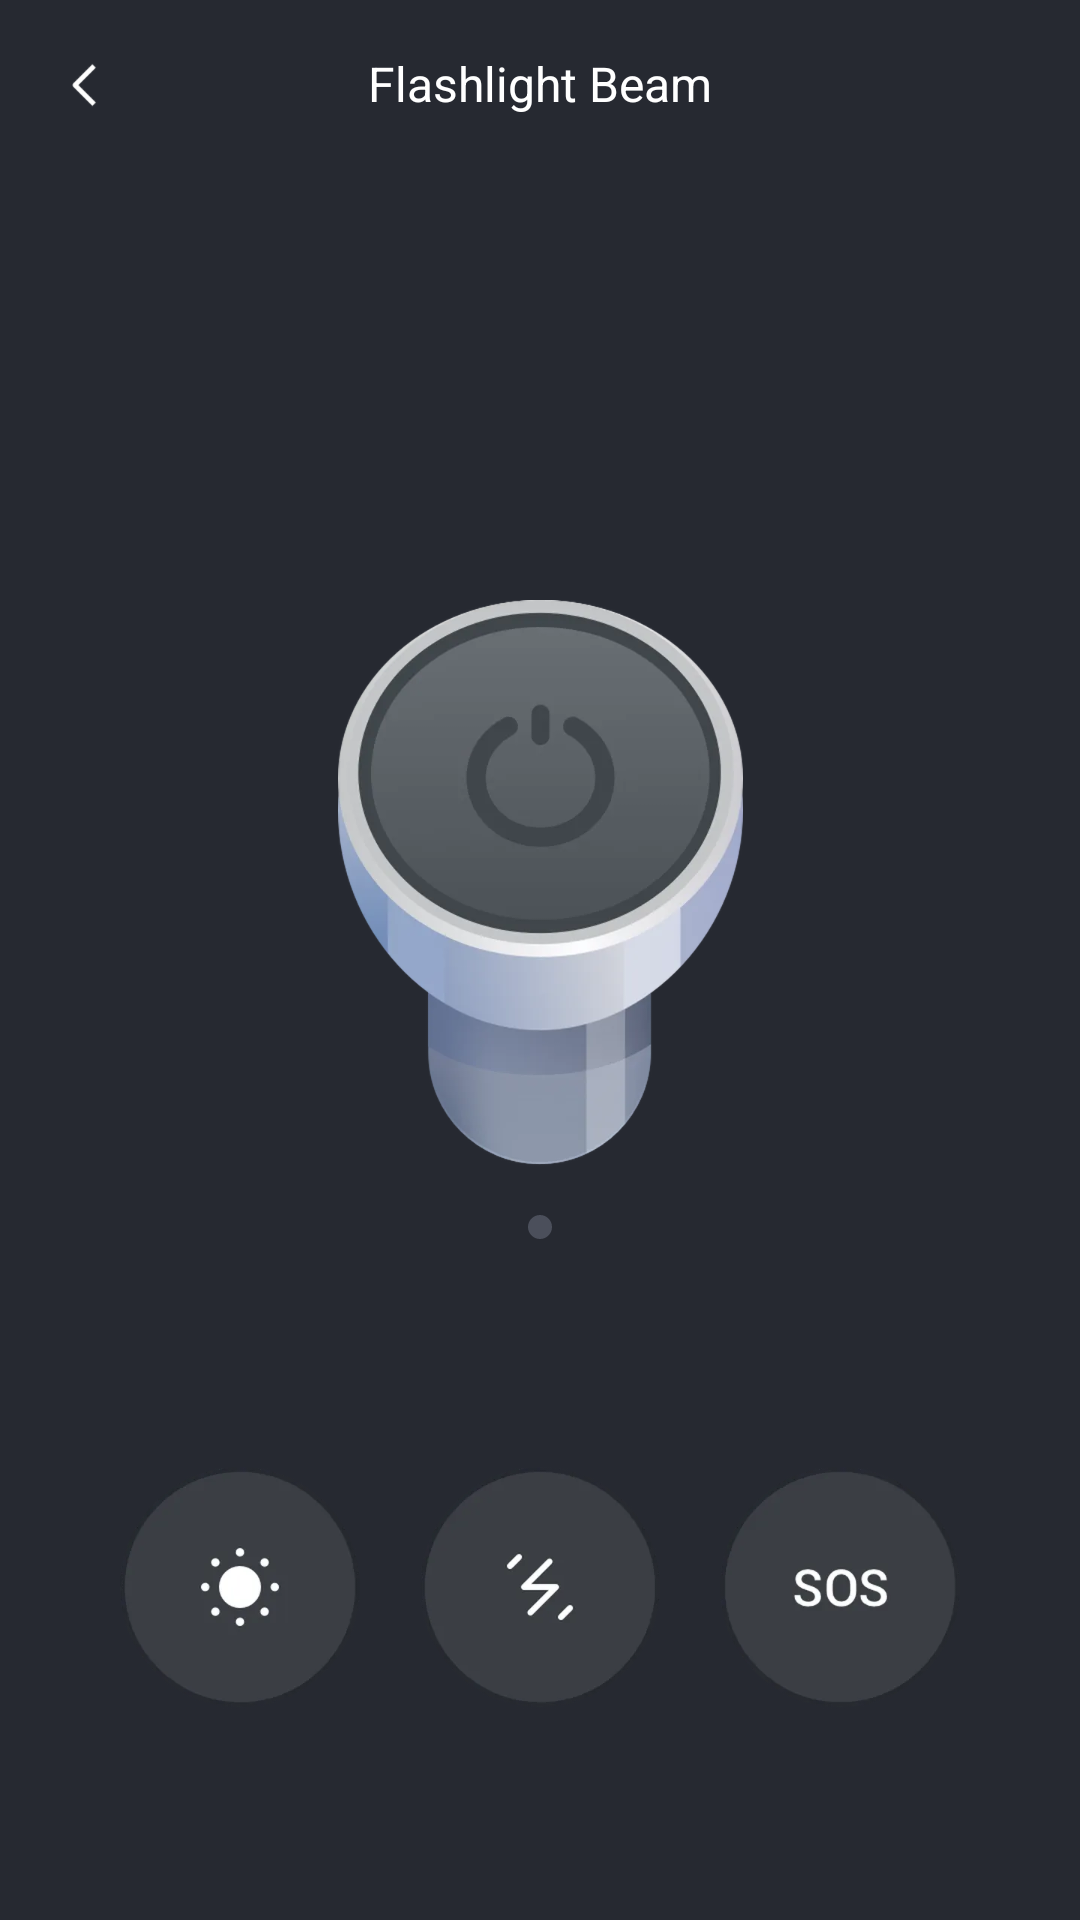

Named icons in this screenshot (1080 x 1920) and their bounding boxes, (x1, y1, x2, y2):
led strobing: (425, 1472, 659, 1703)
